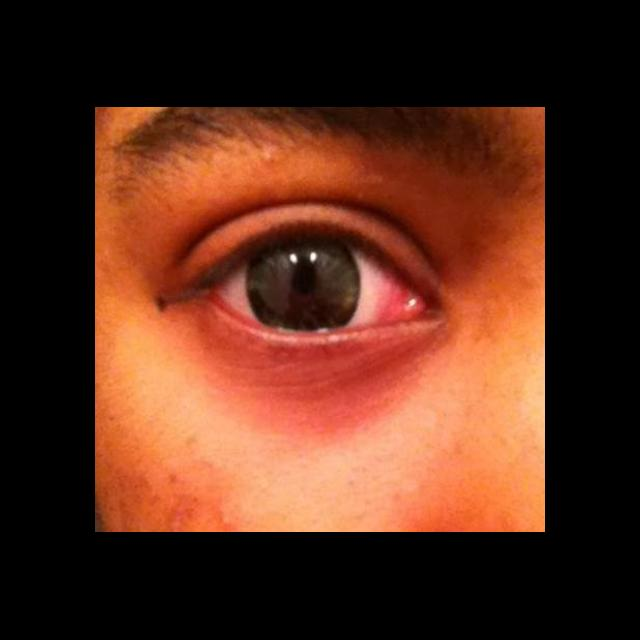eye: (217, 241, 407, 337)
iris: (247, 245, 359, 334)
